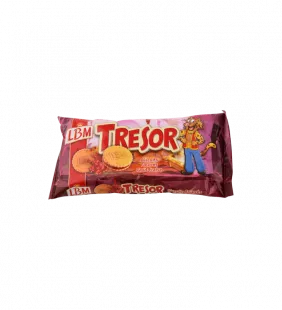LBM: (43, 100, 239, 205)
